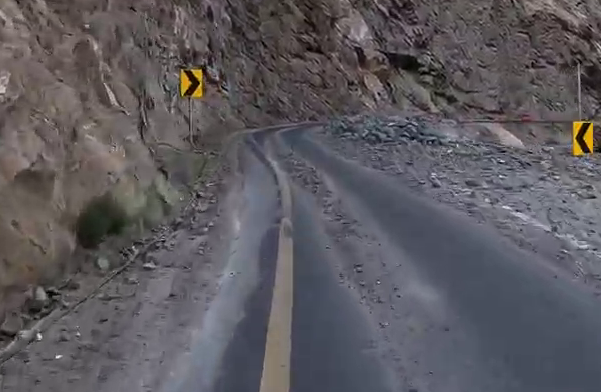unexpected: (291, 86, 588, 270)
